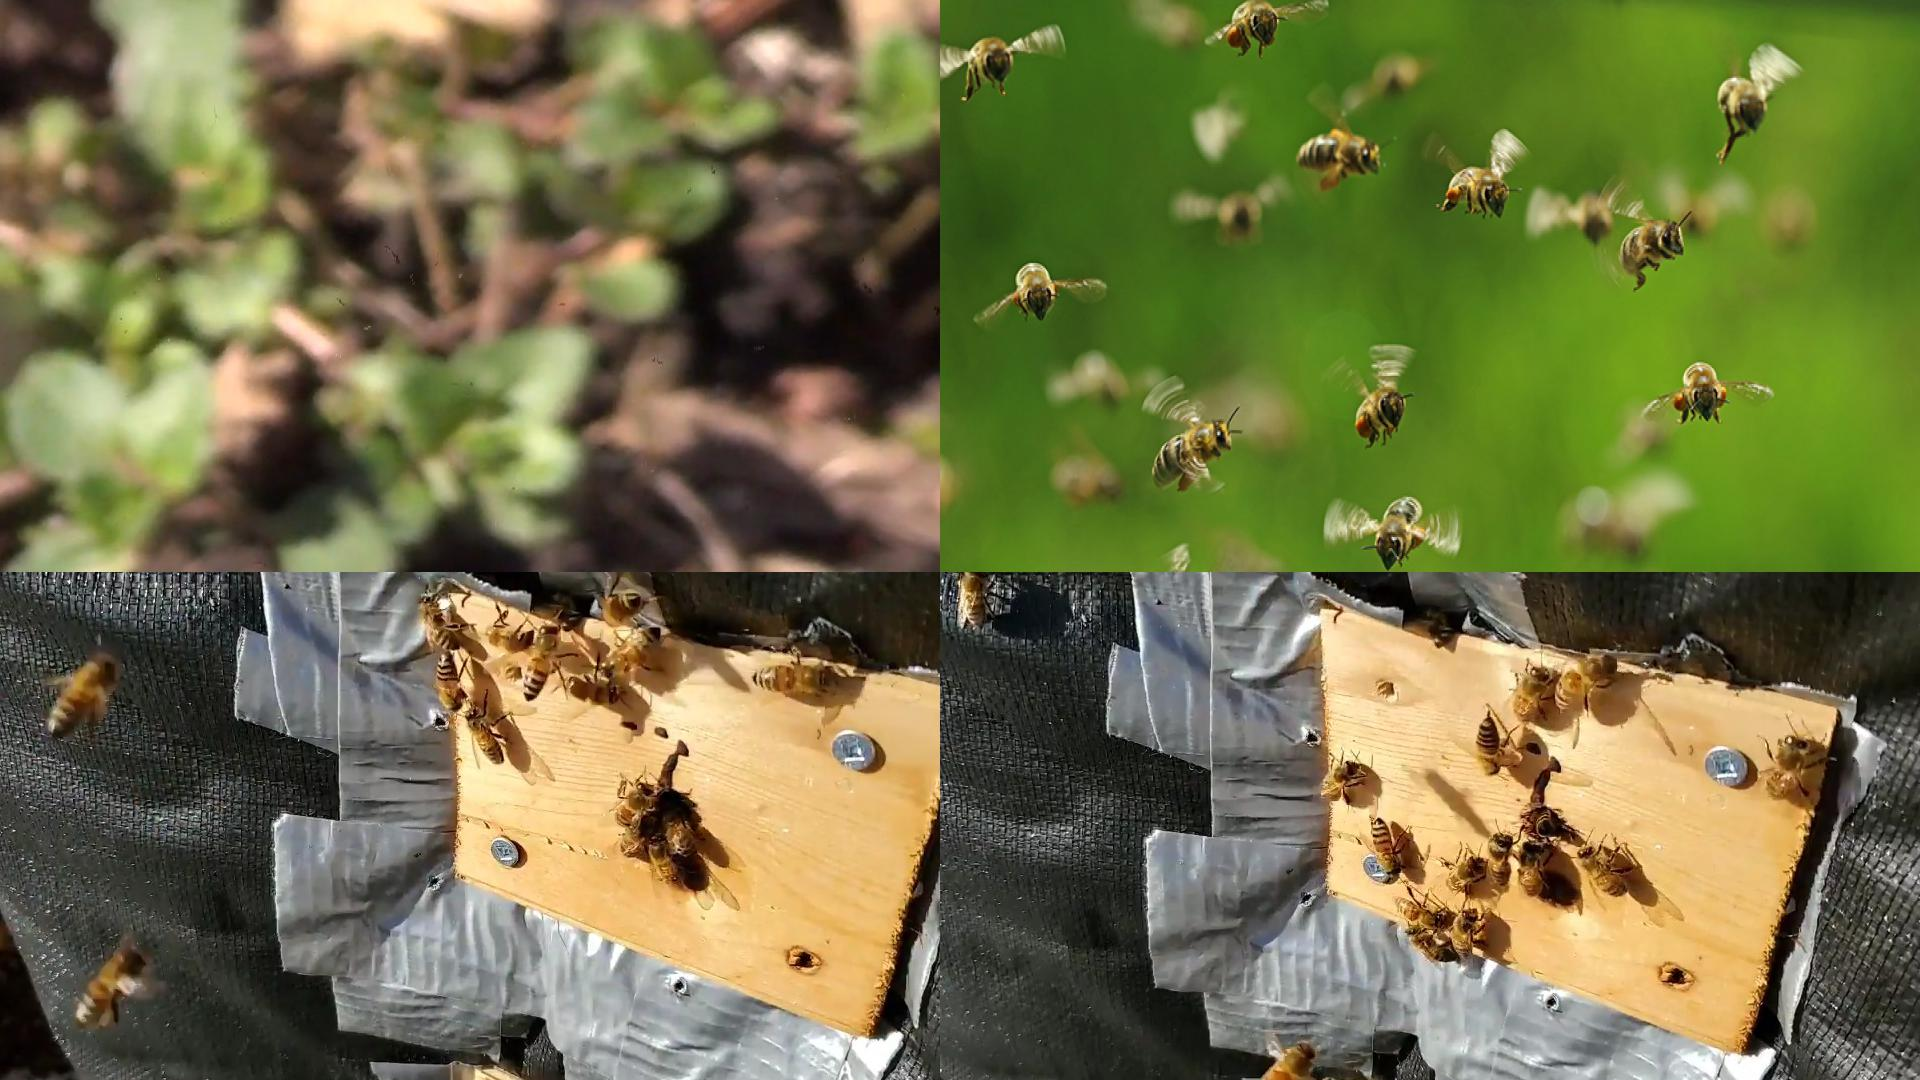bee: (49, 653, 119, 737), (78, 942, 144, 1026), (1557, 657, 1621, 707), (1625, 224, 1683, 272), (525, 625, 560, 700), (607, 624, 661, 671), (1720, 78, 1766, 132), (1577, 845, 1627, 894), (1768, 737, 1808, 796), (1251, 1042, 1315, 1079), (1059, 460, 1120, 498), (419, 596, 462, 650), (1592, 516, 1644, 558), (967, 37, 1013, 84), (465, 707, 505, 762), (754, 666, 840, 688), (1511, 670, 1548, 721), (1404, 924, 1455, 960), (1370, 818, 1402, 873), (1577, 193, 1613, 241), (616, 781, 651, 828), (566, 676, 618, 707), (1224, 193, 1259, 237), (1396, 897, 1445, 928), (961, 572, 989, 626), (436, 654, 463, 711), (1085, 361, 1121, 402), (1323, 760, 1358, 800), (600, 593, 644, 626), (647, 836, 676, 885), (665, 811, 694, 857), (1447, 858, 1487, 890), (1474, 720, 1499, 771), (488, 624, 535, 650), (1455, 909, 1477, 957), (1487, 835, 1509, 885), (1522, 841, 1542, 894), (1381, 57, 1408, 94), (1681, 200, 1713, 229), (1535, 807, 1556, 833)
pollenbee: (1151, 423, 1232, 491), (1298, 128, 1378, 190), (1377, 496, 1425, 568), (1673, 361, 1729, 423), (1448, 167, 1510, 218), (1226, 0, 1279, 53), (1357, 388, 1403, 436), (1017, 264, 1058, 318)
